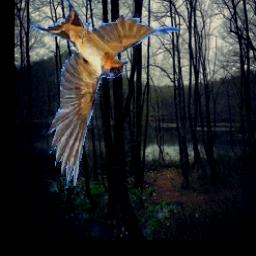Swallow: (29, 0, 178, 188)
